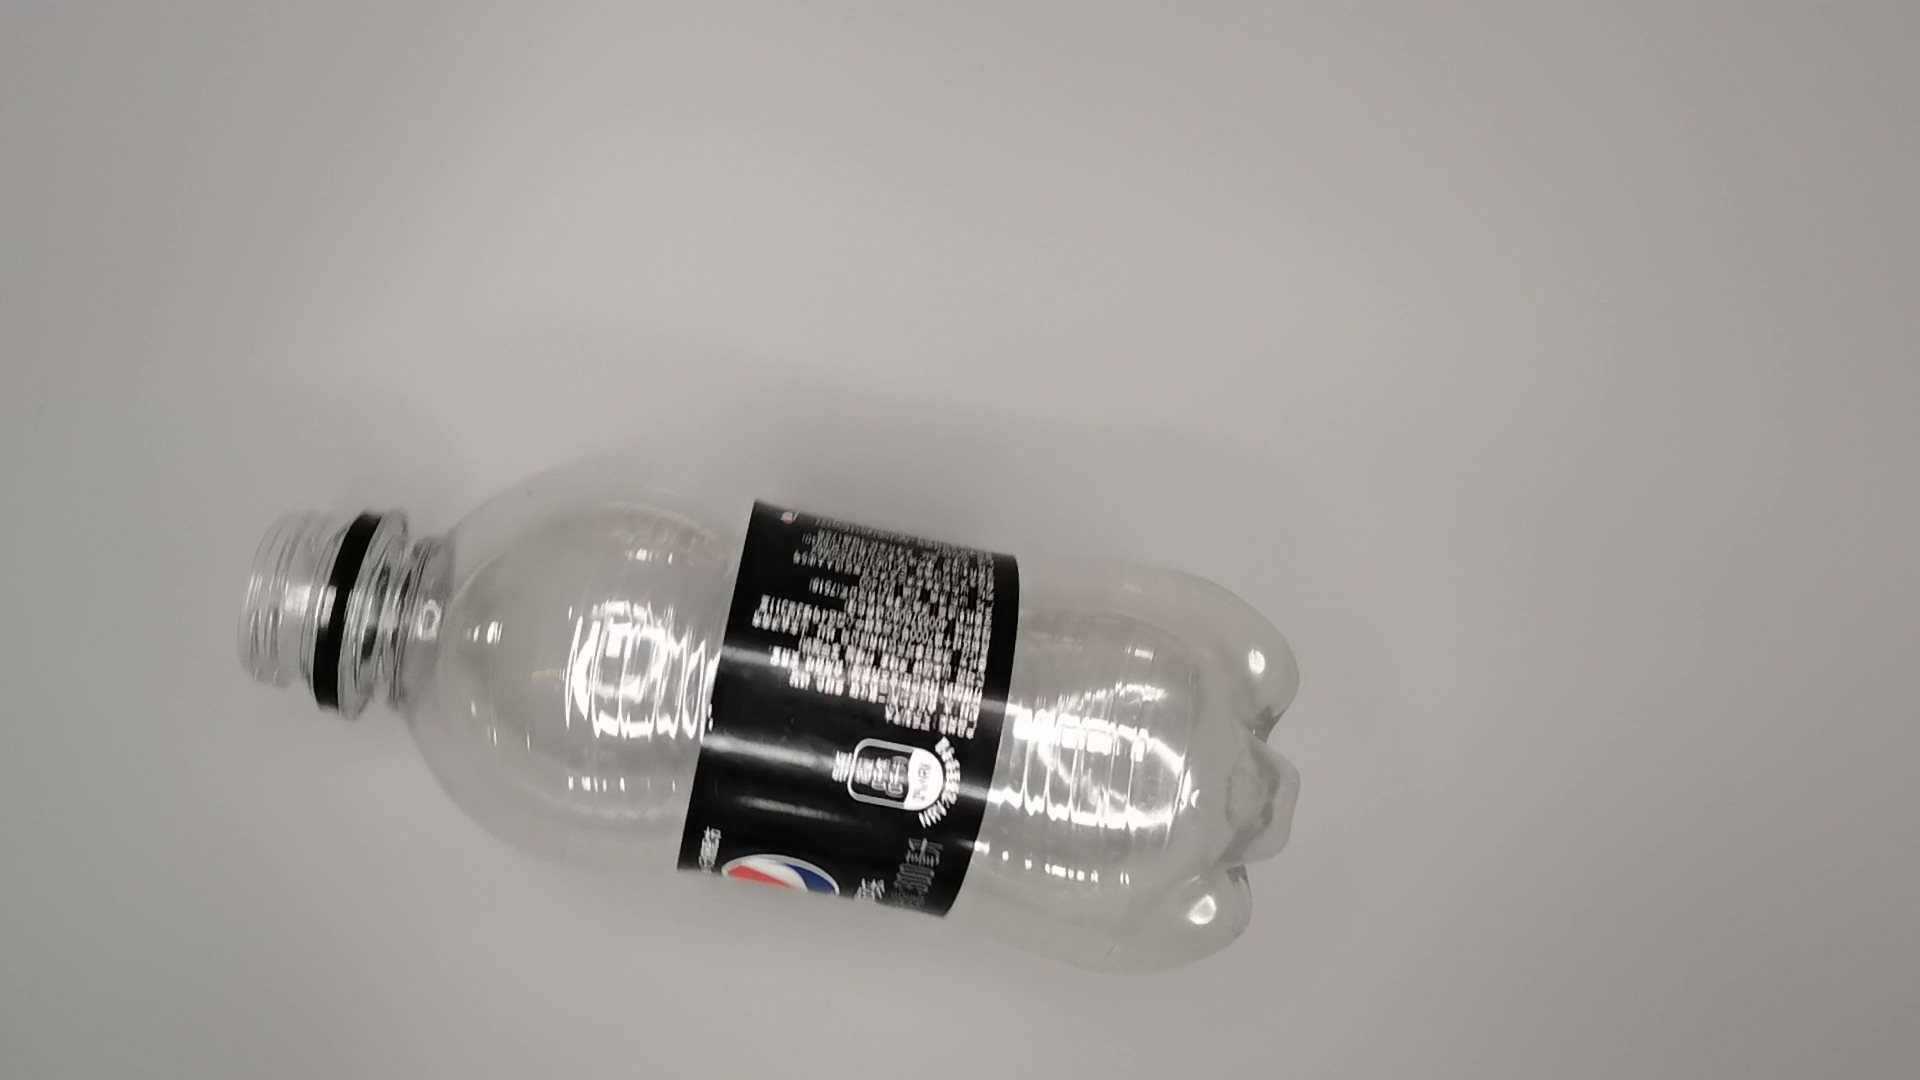bottle: (233, 495, 1319, 985)
